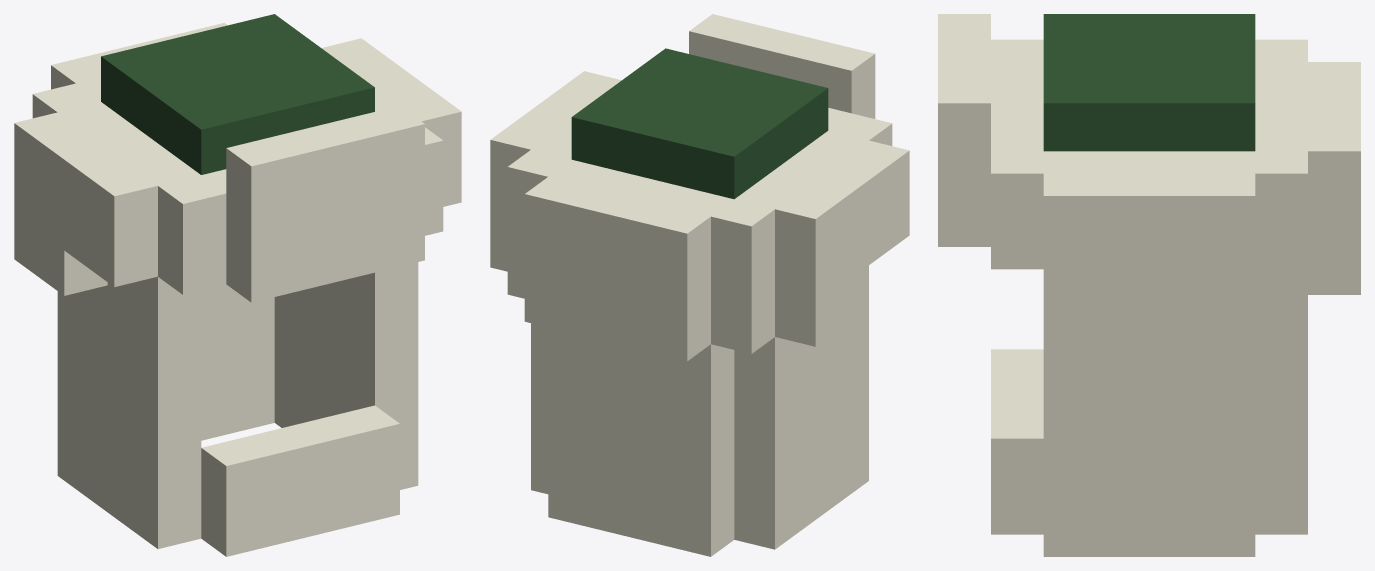
Rendered from char-179-helm_lgt_2f_sh.obj.
3 renders of one model, left to right at view 1: azimuth 30°, elevation 25°; view 2: azimuth 150°, elevation 25°; view 3: azimuth 270°, elevation 25°, orthographic. The views are drawn at different scales.
Parts seen in each view (by area): view 1: helm_lgt_2f_sh; view 2: helm_lgt_2f_sh; view 3: helm_lgt_2f_sh.
Boxes of the visible parts, x1=… form: helm_lgt_2f_sh: x1=14, y1=14, x2=461, y2=556; helm_lgt_2f_sh: x1=490, y1=14, x2=909, y2=556; helm_lgt_2f_sh: x1=938, y1=14, x2=1360, y2=556.
Size of the model in its own units: 0.8 by 0.9 by 0.8.
1 material, 1 textured.
